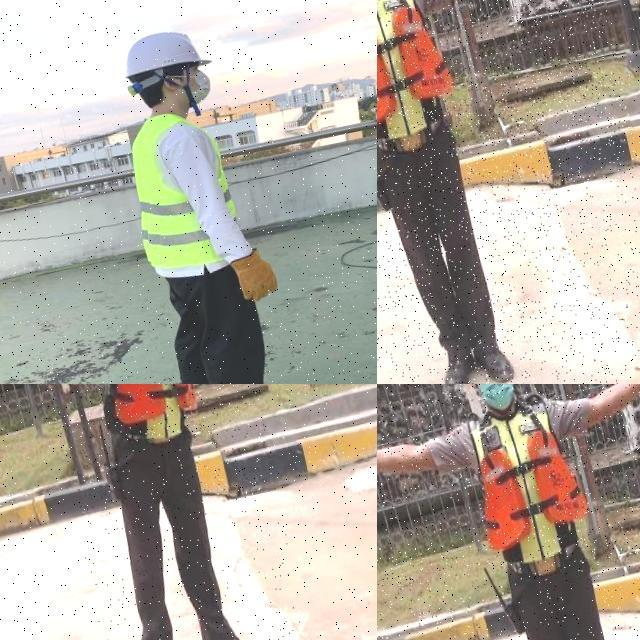boots: (473, 338, 519, 384), (437, 346, 483, 384), (196, 620, 266, 640)
helmet: (117, 22, 214, 82)
vest: (461, 397, 594, 570), (117, 103, 245, 276), (377, 0, 461, 145), (80, 384, 211, 456)
